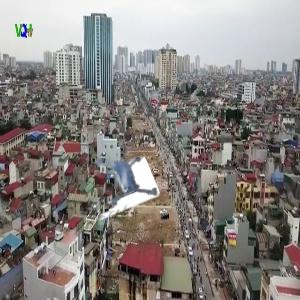drone: (76, 140, 151, 215)
